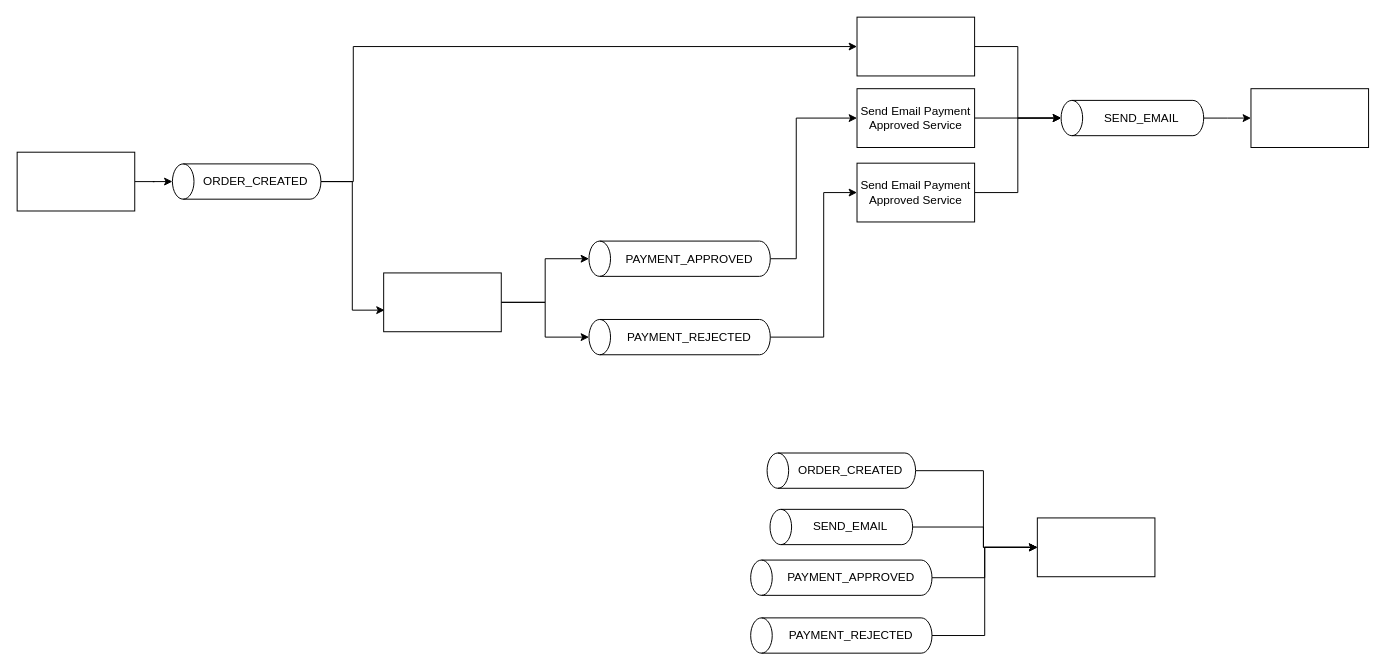
Some shapes in this 1386 by 670 pixel diagram are drawn without their labels. The centre of each missing label's shape, as x and y in pixels:
Create New Order: (75,181)
Log Service: (1095,547)
Payment Service: (442,302)
Send Email New Order Service: (915,46)
Send Email Service: (1309,117)
